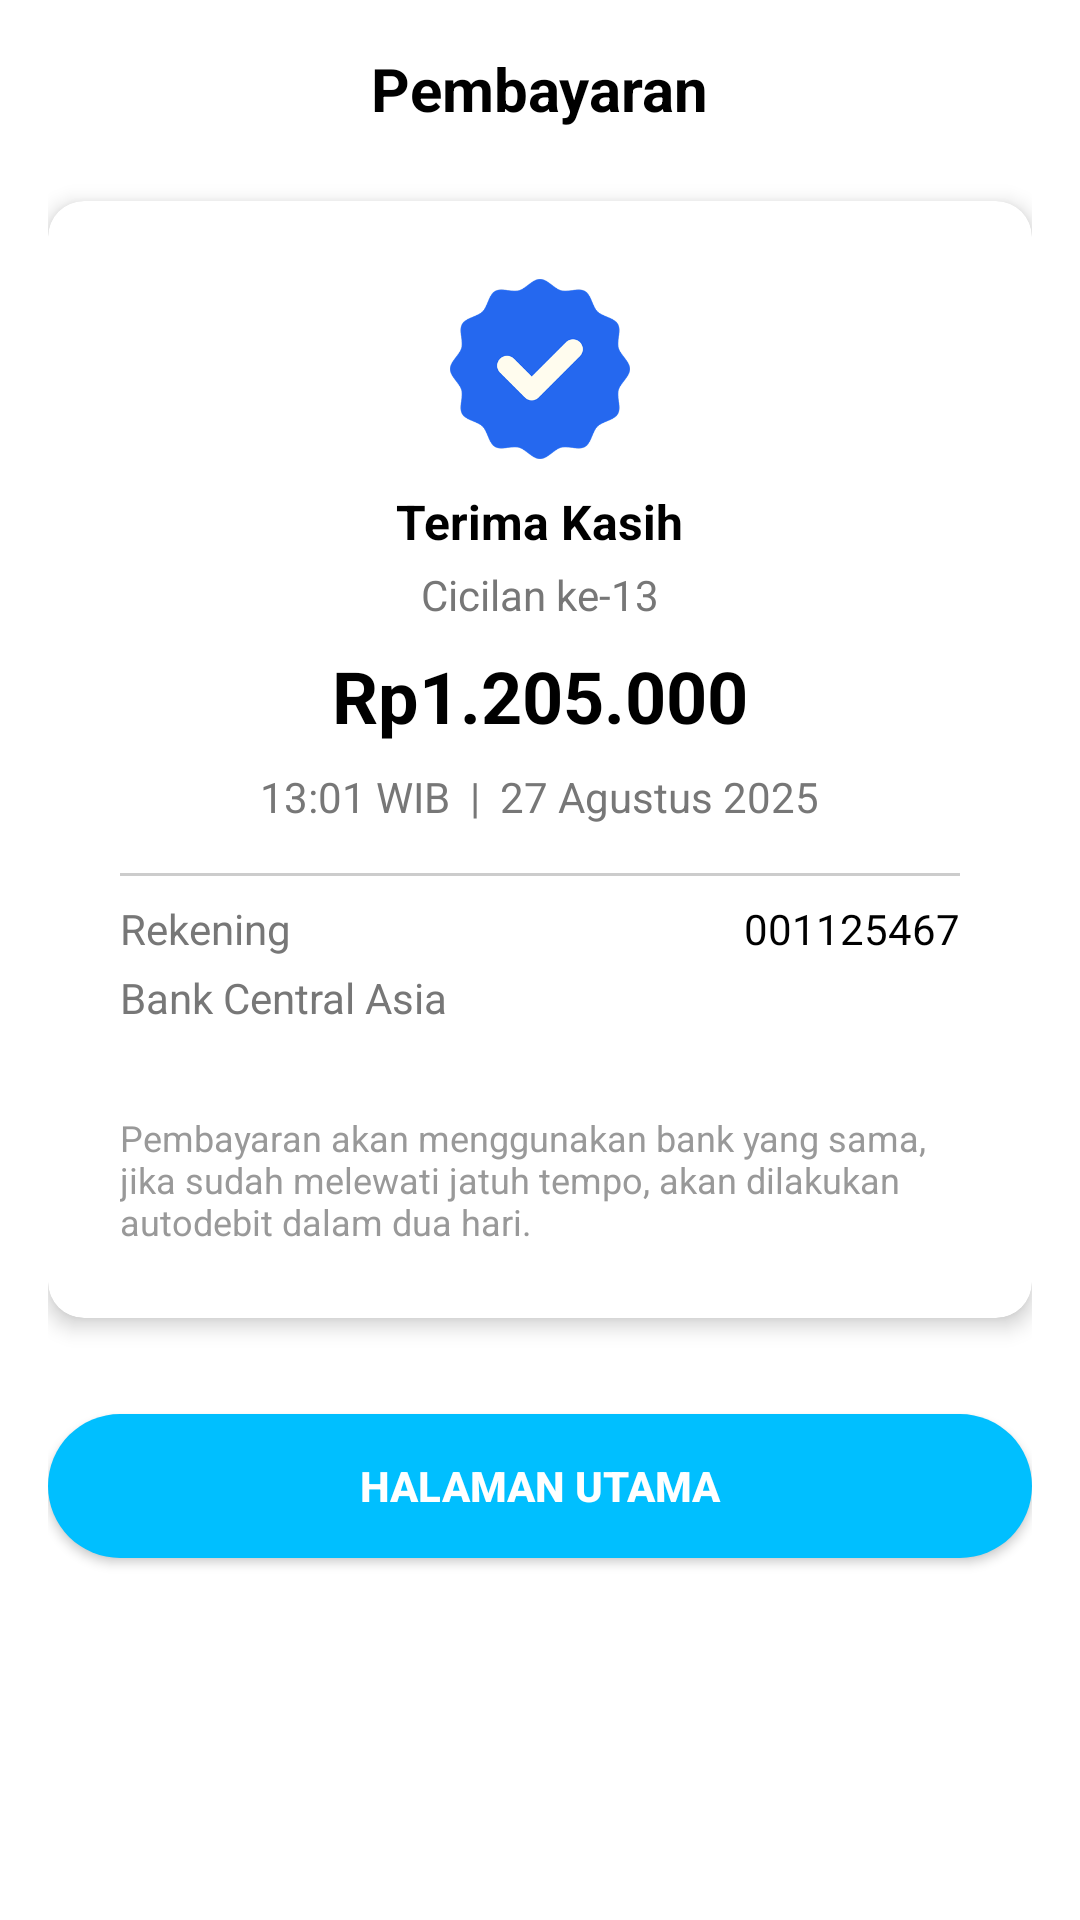

Named icons in this screenshot (1080 × 1920) and their bounding boxes, (x1, y1, x2, y2):
ceklis: (450, 279, 630, 459)
